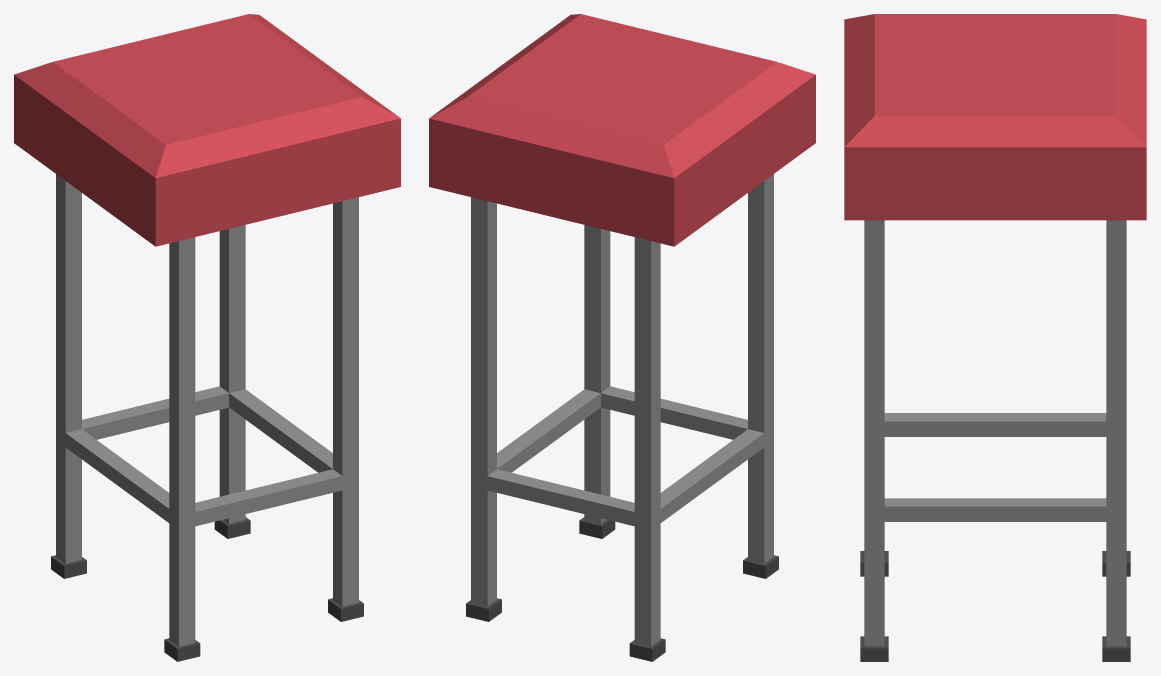
File: Stool.fbx
The picture shows the model from 3 angles, left to right: view 1: azimuth 30°, elevation 25°; view 2: azimuth 150°, elevation 25°; view 3: azimuth 270°, elevation 25°; orthographic projection. The views are drawn at different scales.
Parts seen in each view (by area): view 1: Stool; view 2: Stool; view 3: Stool.
Part boxes in pixels (box(x1,y1,x2,y2)): Stool: box(14, 14, 400, 661); Stool: box(429, 14, 815, 661); Stool: box(844, 14, 1146, 661).
Bounding box in the file's own units: 300 × 600 × 300.
